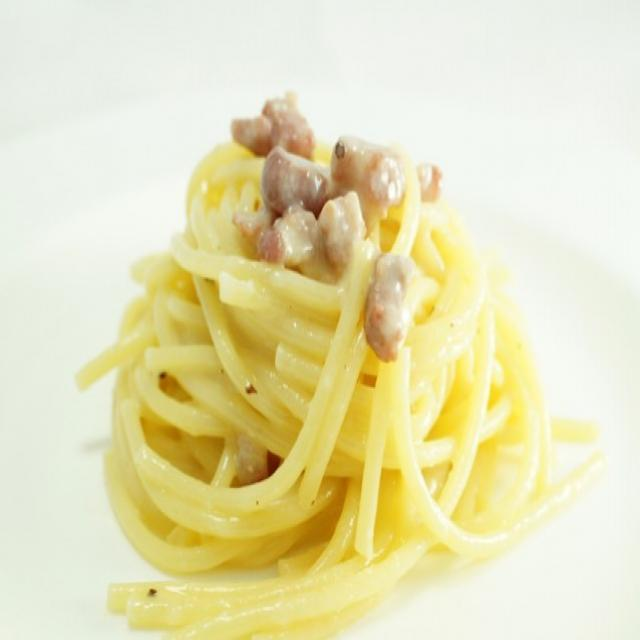Oil pasta: (131, 79, 577, 597)
